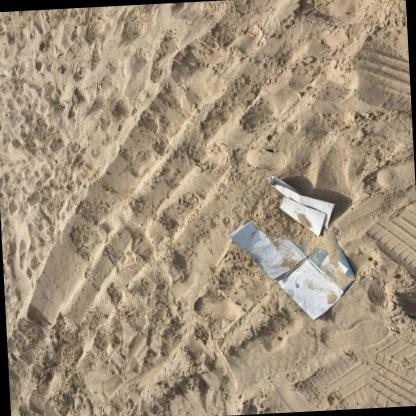Paper: (227, 219, 354, 319), (267, 174, 334, 235)
Waste: (266, 375, 271, 381), (328, 131, 332, 133)
